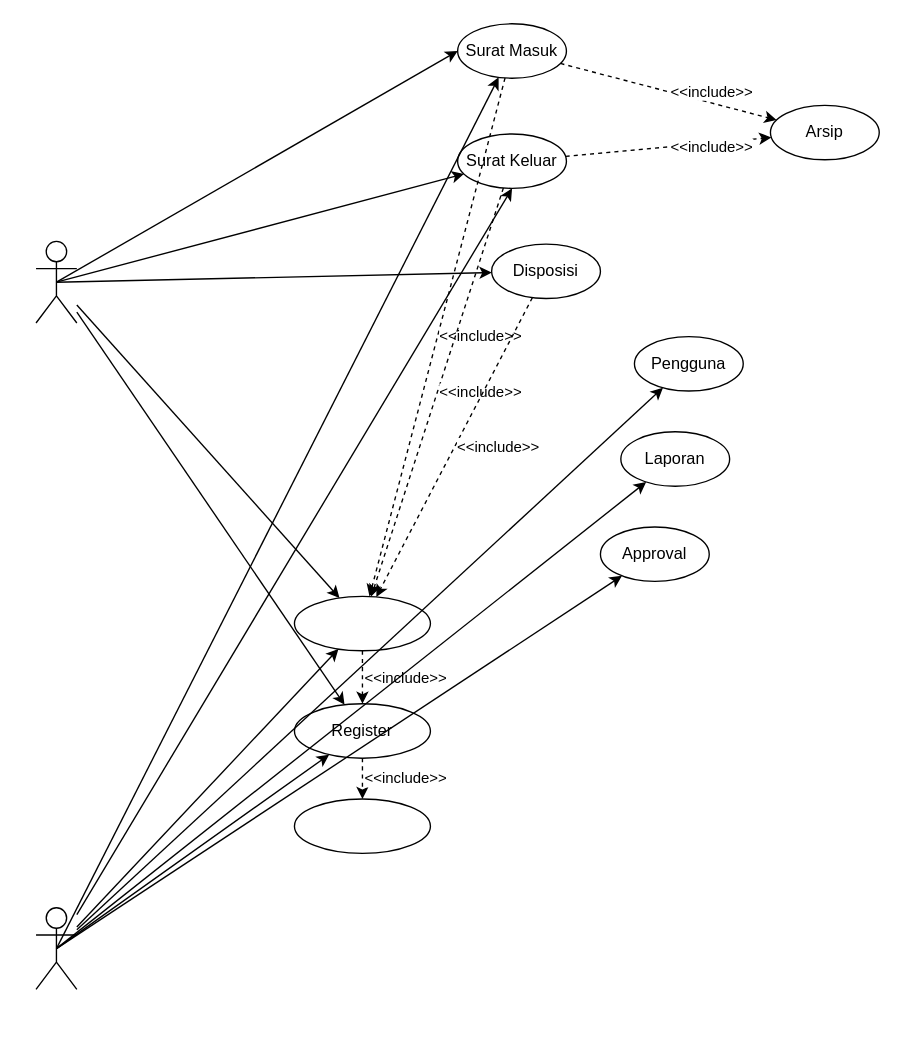
The diagram is 903 pixels wide and 1042 high, and some of its shapes have lost their labels. Each missing label, with the centre of its shape:
"inspektur" belongs at pixel 56 947.
"Login" belongs at pixel 361 623.
"staff" belongs at pixel 56 281.
"Validasi Data" belongs at pixel 361 825.
